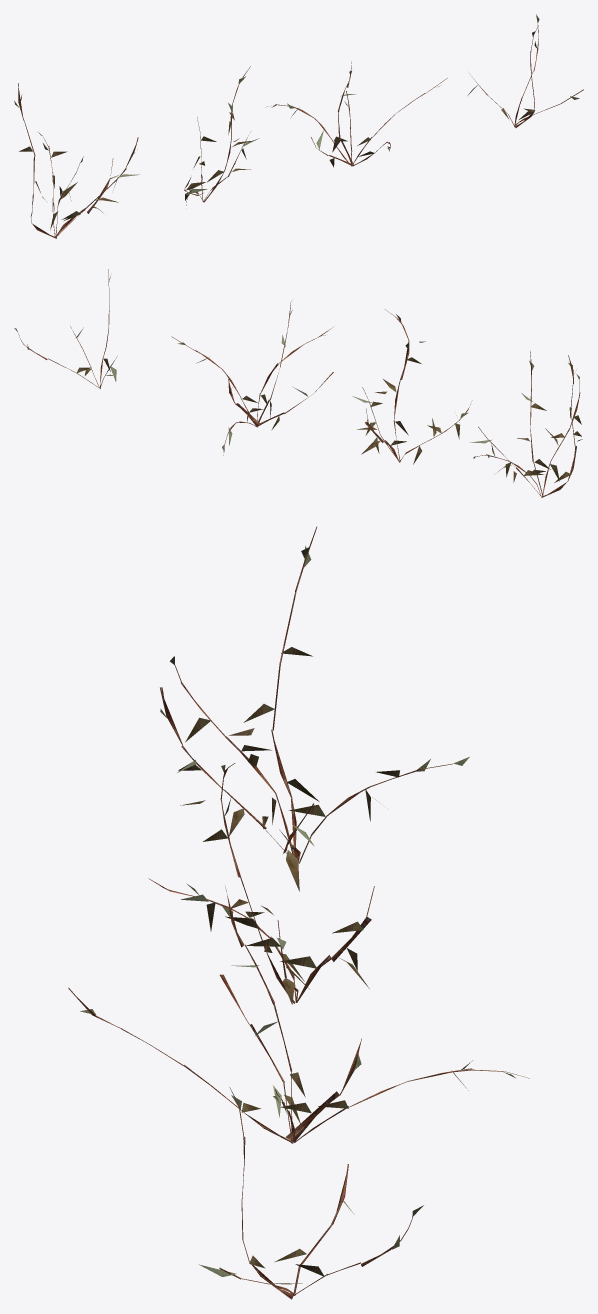
The model's file is shrub_02.glb.
The picture shows the model from 3 angles, top to bottom: view 1: azimuth 30°, elevation 25°; view 2: azimuth 150°, elevation 25°; view 3: azimuth 270°, elevation 25°; orthographic projection. The views are drawn at different scales.
Parts seen in each view (by area): view 1: v0; view 2: v0; view 3: v0.
Boxes of the visible parts, <box> form: v0: <box>14,14,583,238</box>; v0: <box>14,269,582,497</box>; v0: <box>68,526,529,1299</box>.
Size of the model in its own units: 0.9746 by 0.2701 by 0.3646.
Materials: 1 (1 with a texture image).
